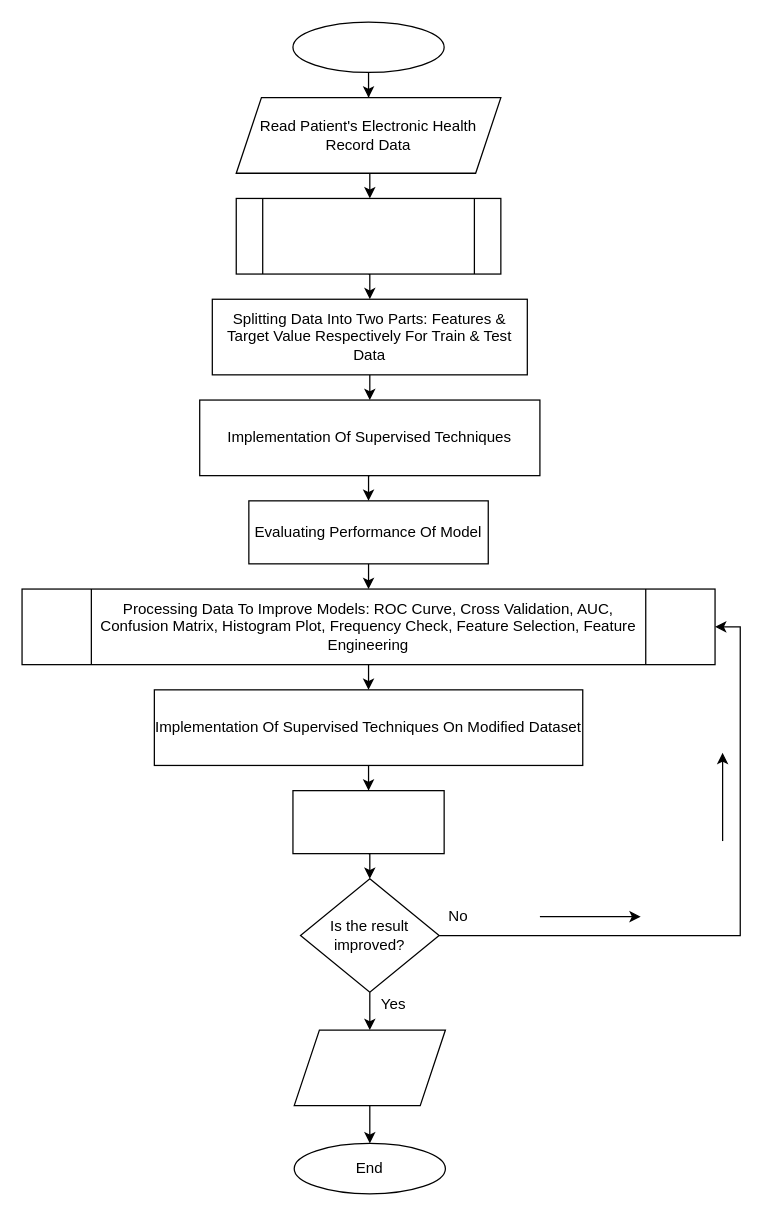
The diagram is 772 pixels wide and 1216 high, and some of its shapes have lost their labels. Here are the shapes that lost their labels. From the top down, the box of each, then its label:
(292, 21, 444, 72): Start
(235, 197, 501, 274): Data Preprocessing: Data Cleaning, Scaling and Normalizing
(292, 789, 444, 854): Comparison Of Results
(293, 1029, 445, 1106): Final Results
